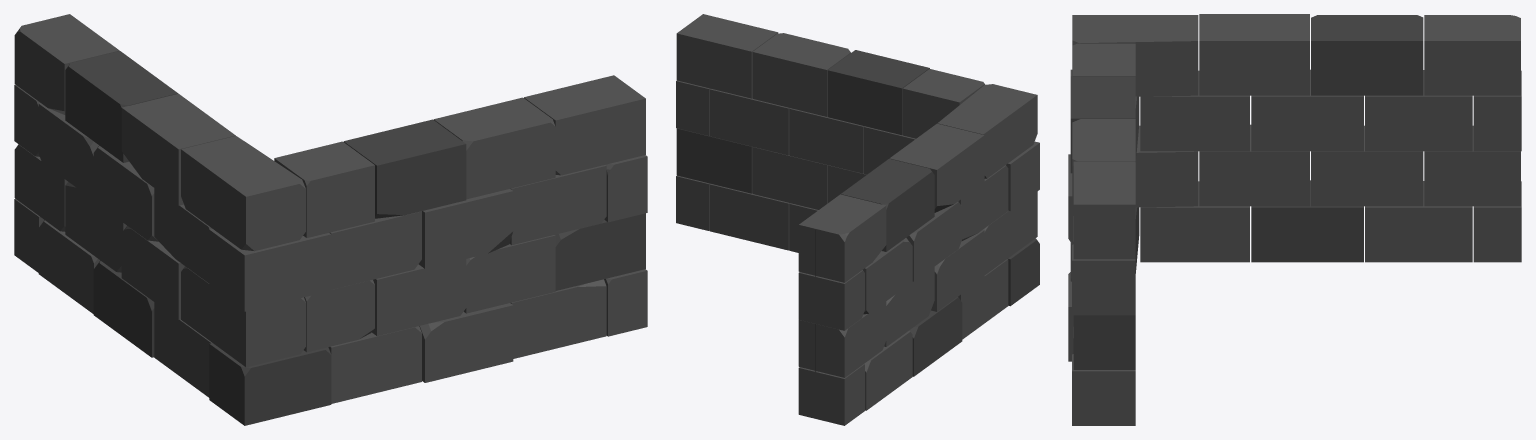
File: CastleBase_03.glb
3 views of the same model, side by side, from view 1: azimuth 30°, elevation 25°; view 2: azimuth 150°, elevation 25°; view 3: azimuth 270°, elevation 25° (orthographic). The views are drawn at different scales.
Visible parts, largest first — view 1: CastleBase_03_LOD0; view 2: CastleBase_03_LOD0; view 3: CastleBase_03_LOD0.
Part boxes in pixels (left/top/right/bottom): CastleBase_03_LOD0: left=14, top=14, right=647, bottom=425; CastleBase_03_LOD0: left=676, top=14, right=1039, bottom=425; CastleBase_03_LOD0: left=1068, top=14, right=1521, bottom=425.
Size of what is drawn, in the model's own units: 2.78 by 1.5 by 2.79.
1 material, 1 textured.
